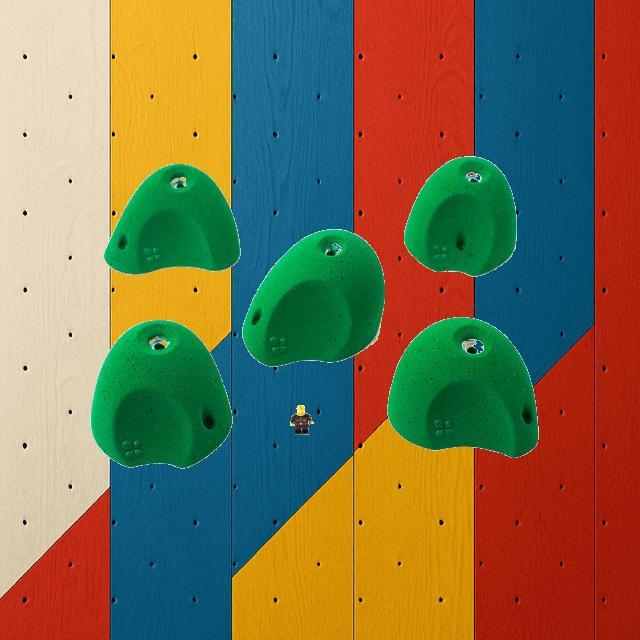Sloper: (89, 318, 233, 468), (386, 315, 538, 457), (242, 228, 384, 366), (104, 161, 240, 273), (405, 154, 517, 278)
